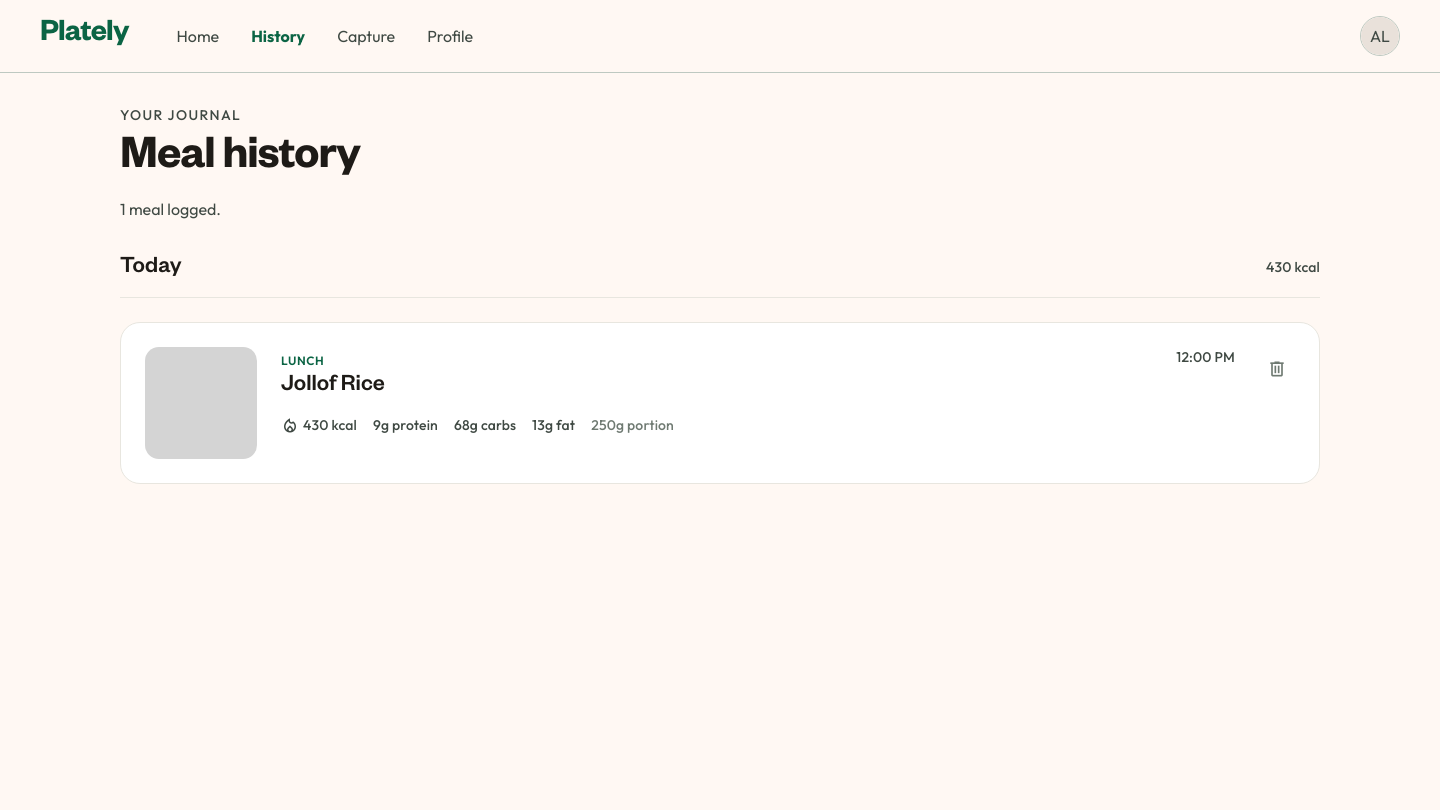
Test: MealHistory › reports a failed delete and still refreshes the list
Click the button named "Delete Jollof Rice" at (1277, 367), box [1259, 347, 1295, 387]
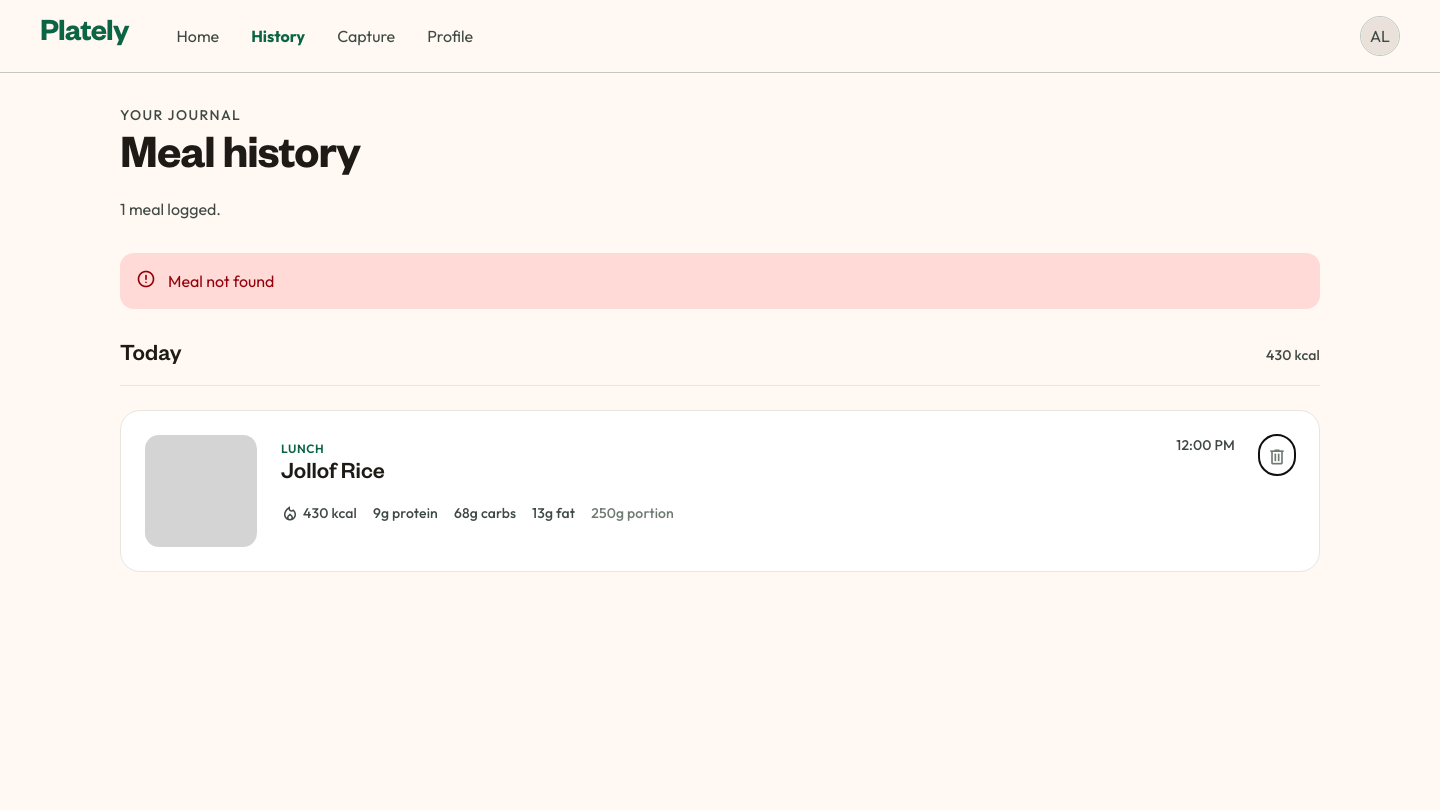
Expected: the heading "Jollof Rice" is shown, [281, 459, 385, 491]
Now the message reads "Meal not found", box [168, 271, 274, 291]
